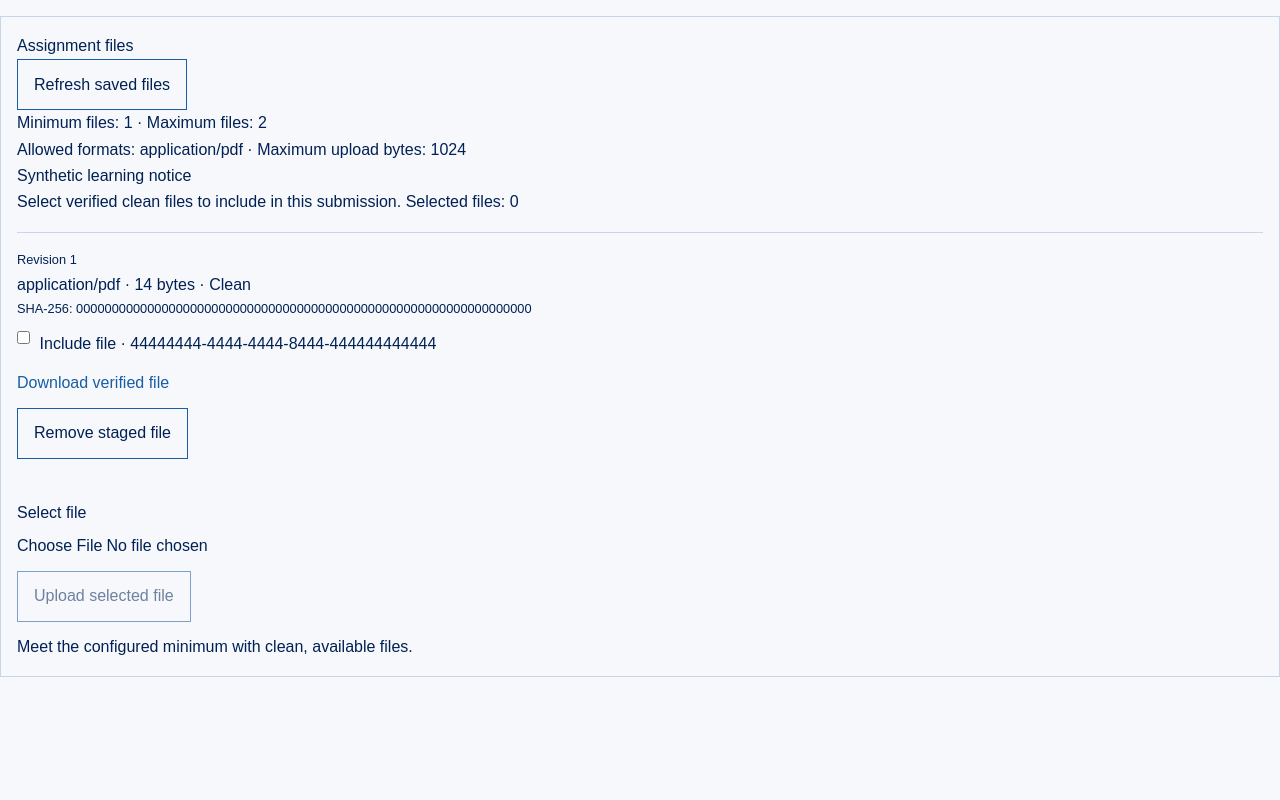
Scenario: learner and trainer evidence › uses binding versions for removal and reconciles lost DELETE without automatically deleting again
What coordinates should you click on to do the following:
click the button "Remove staged file"
I would click on:
 (102, 434)
Its box is [17,408,188,459].
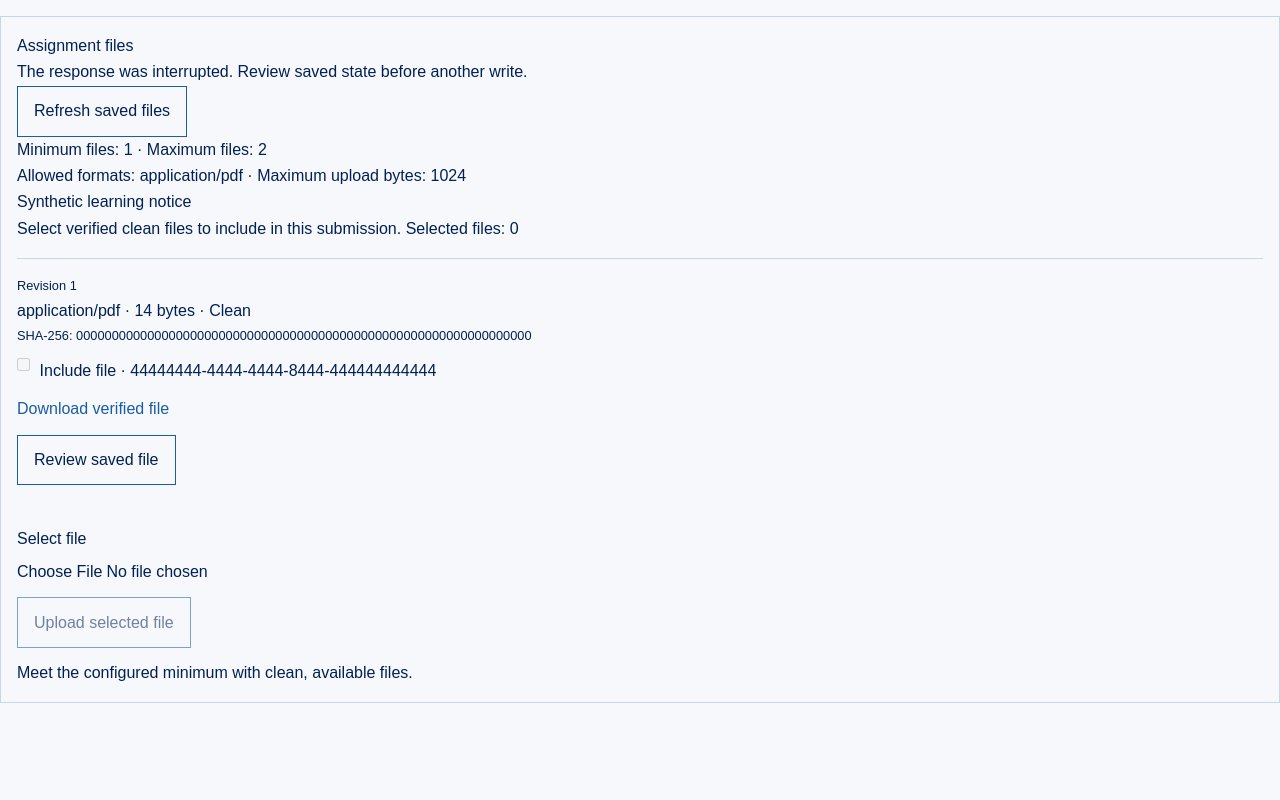
What coordinates should you click on to do the following:
click the button "Review saved file"
I would click on:
 (96, 460)
Its box is [17,435,176,485].
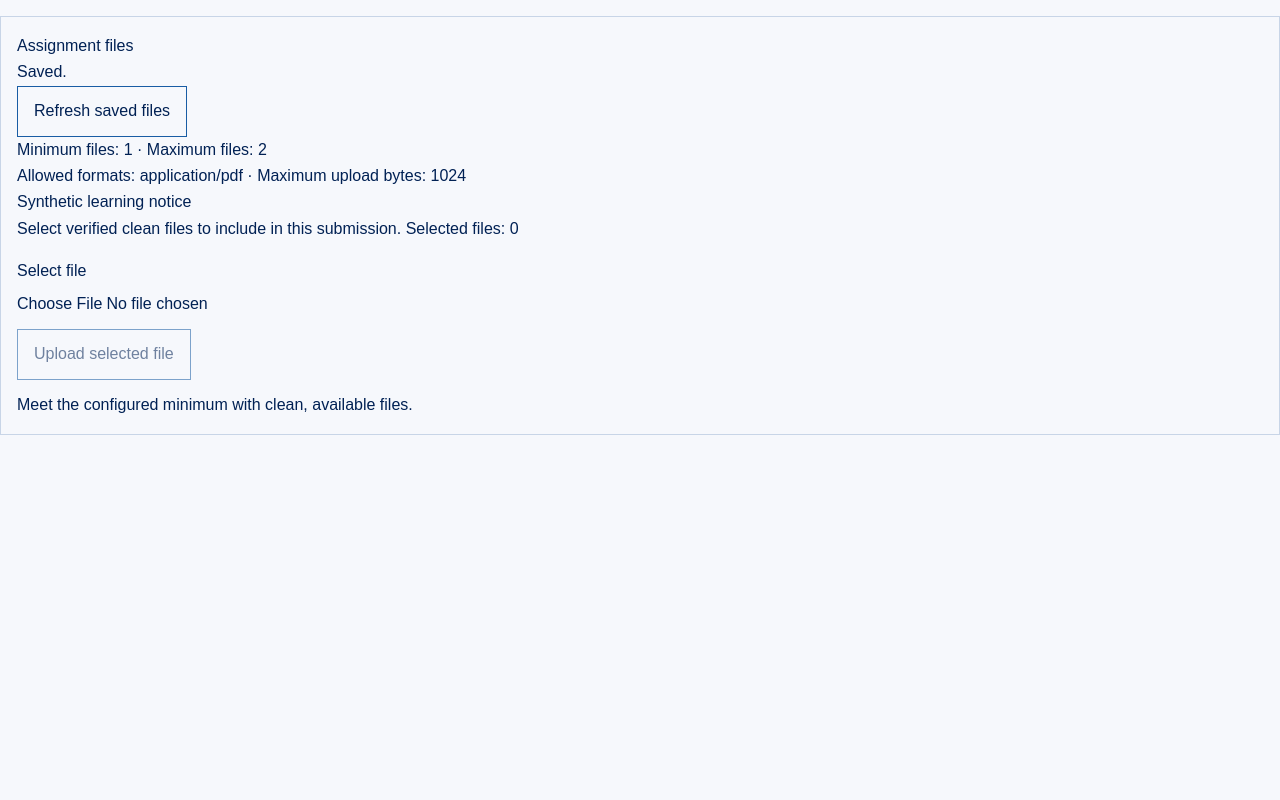
expect the checkbox is gone: met
